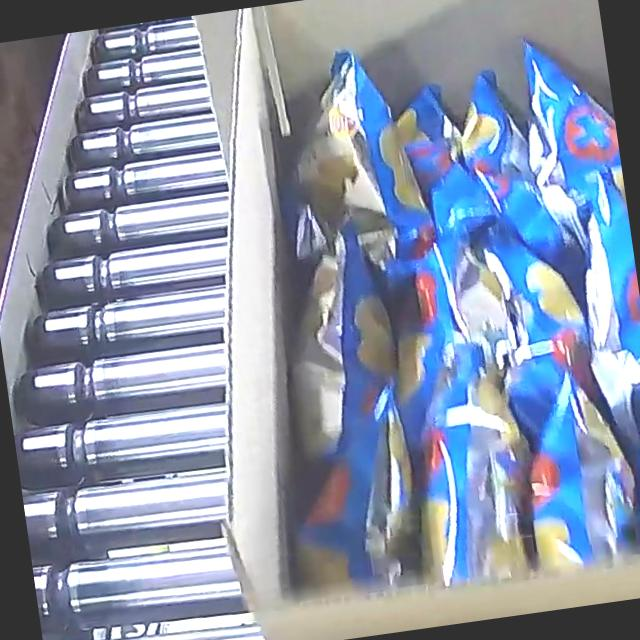paprika: (234, 9, 640, 609)
